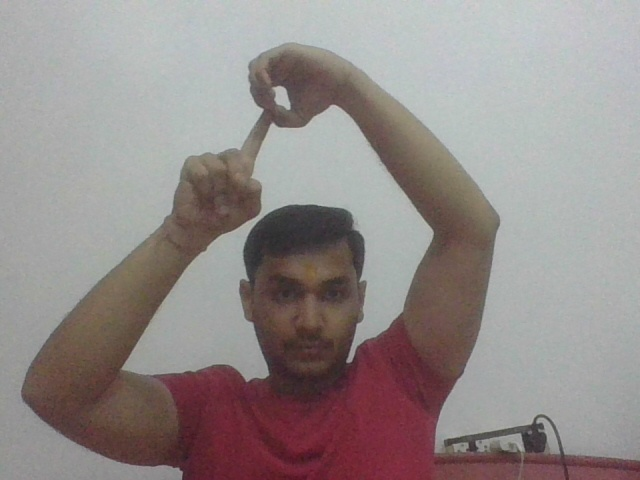Q: (213, 41, 320, 204)
